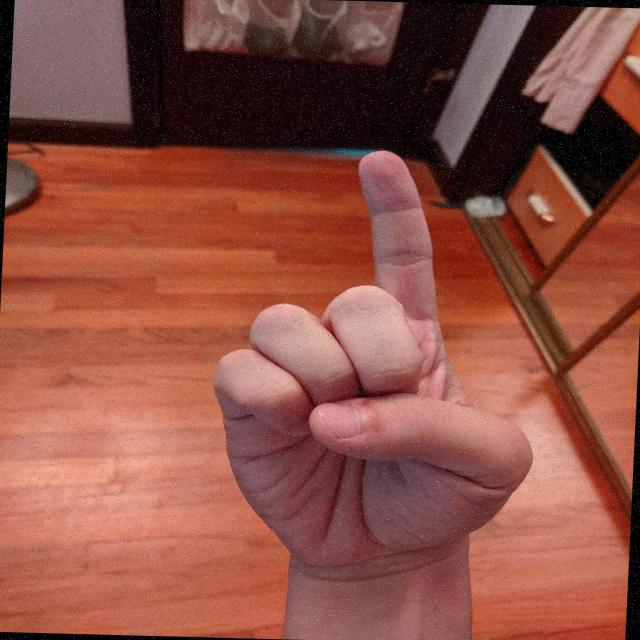D: (194, 140, 556, 579)
